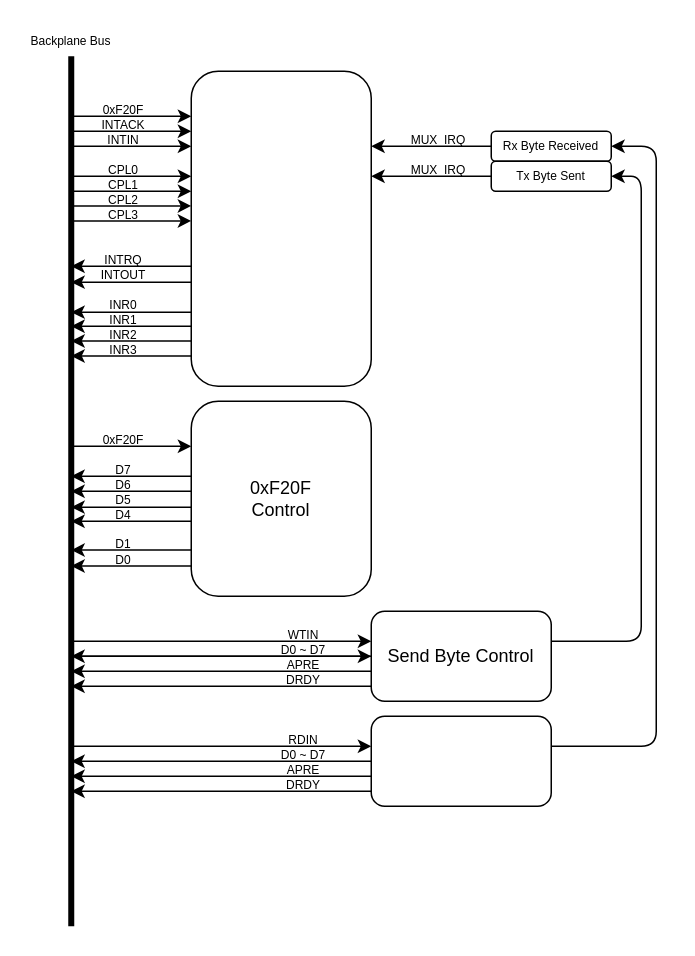
Some shapes in this 695 by 956 pixel diagram are drawn without their labels. The centre of each missing label's shape, as x and y in pixels:
Byte Received Control: (460,760)
Interrupt Control: (280,228)
